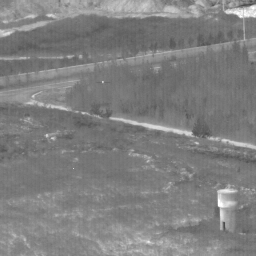aircraft: (102, 82, 104, 84)
